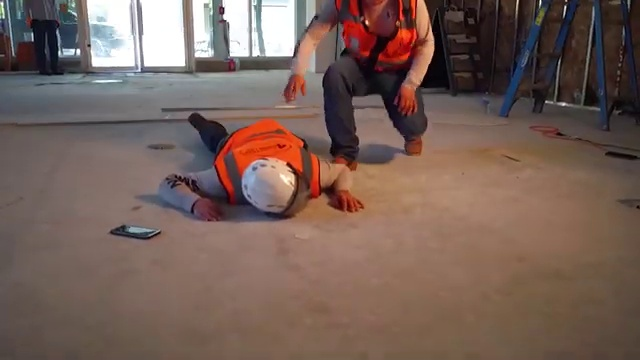helmet: (240, 166, 306, 212)
jacket: (336, 4, 413, 68), (212, 132, 328, 154)
